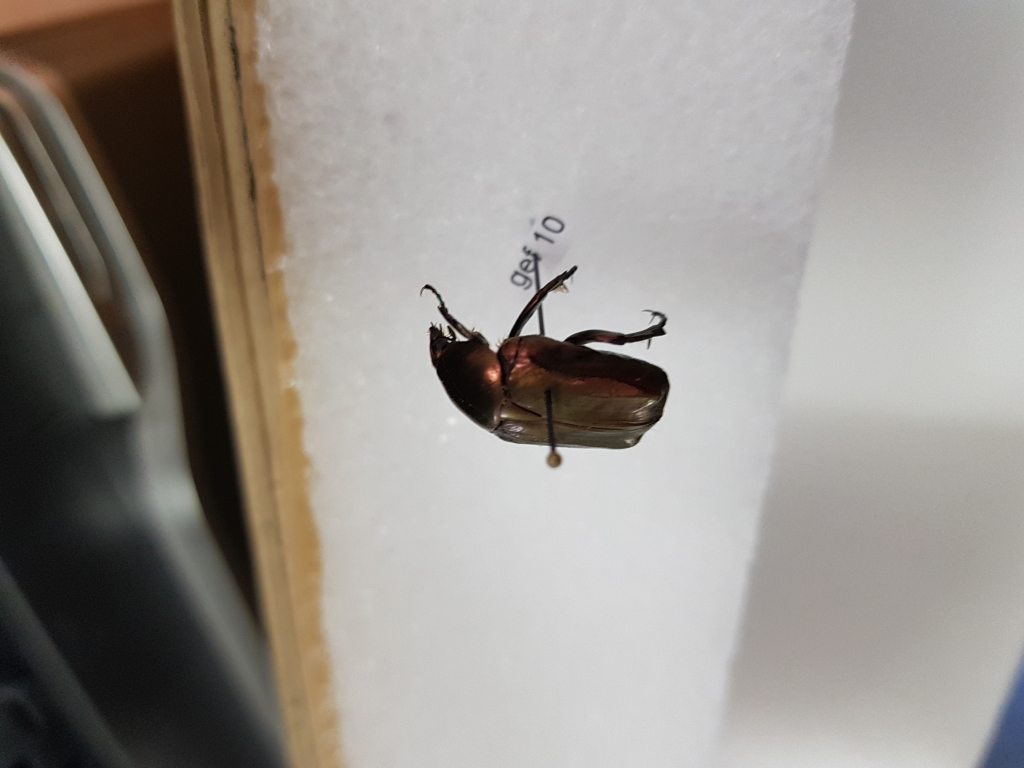Cetonia_aurata: (414, 263, 679, 461)
